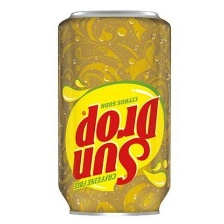can: (54, 8, 173, 216)
